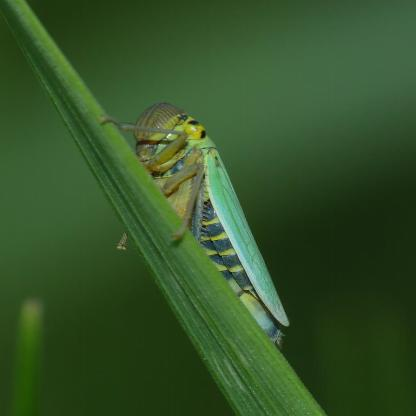Green-Leafhopper: (107, 95, 292, 350)
